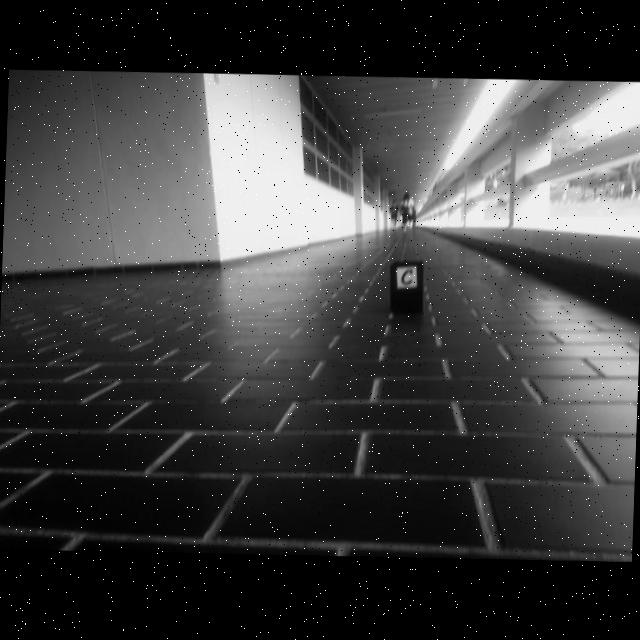C: (400, 271, 413, 287)
